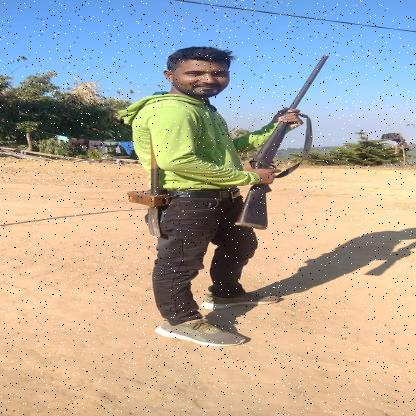rifle: (231, 54, 331, 232)
